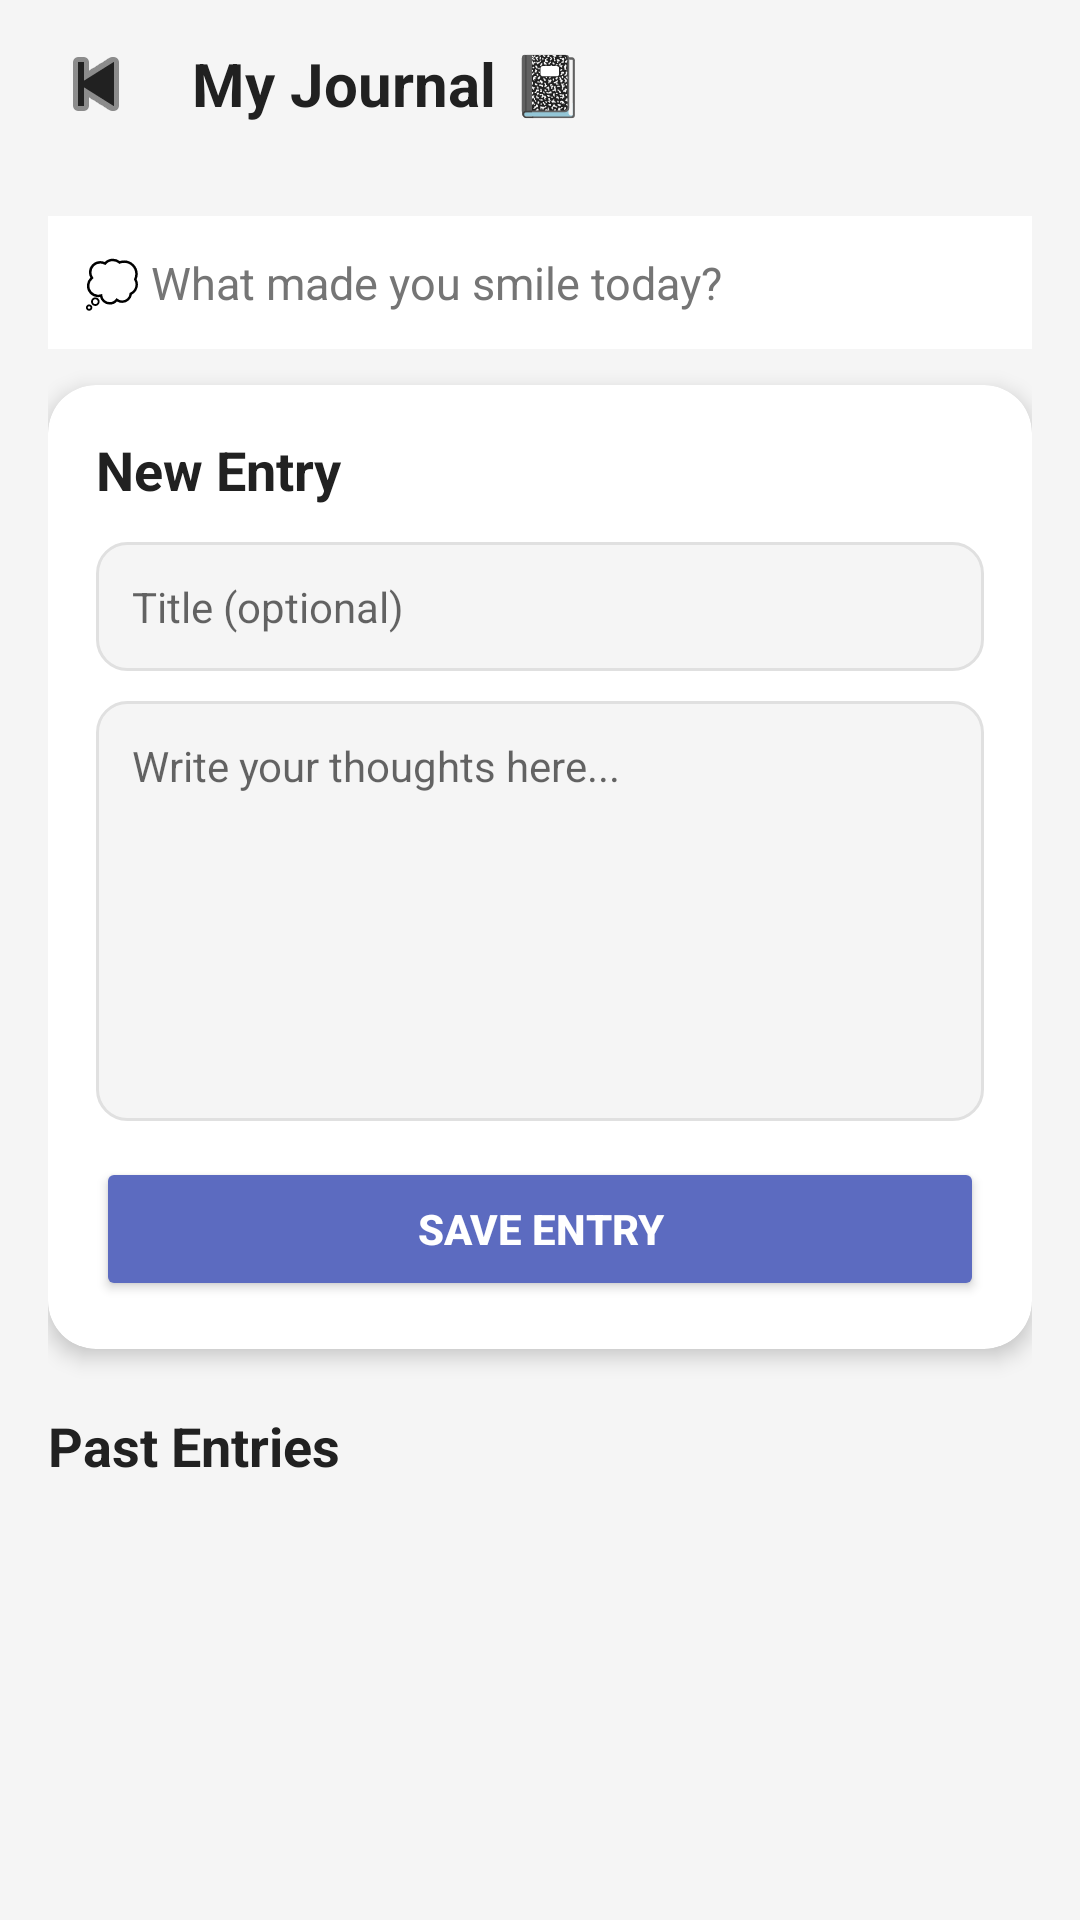

Where to tap for icons on this 1080×1920 app screen, as (x=x, y=y):
previous: (x=96, y=84)
